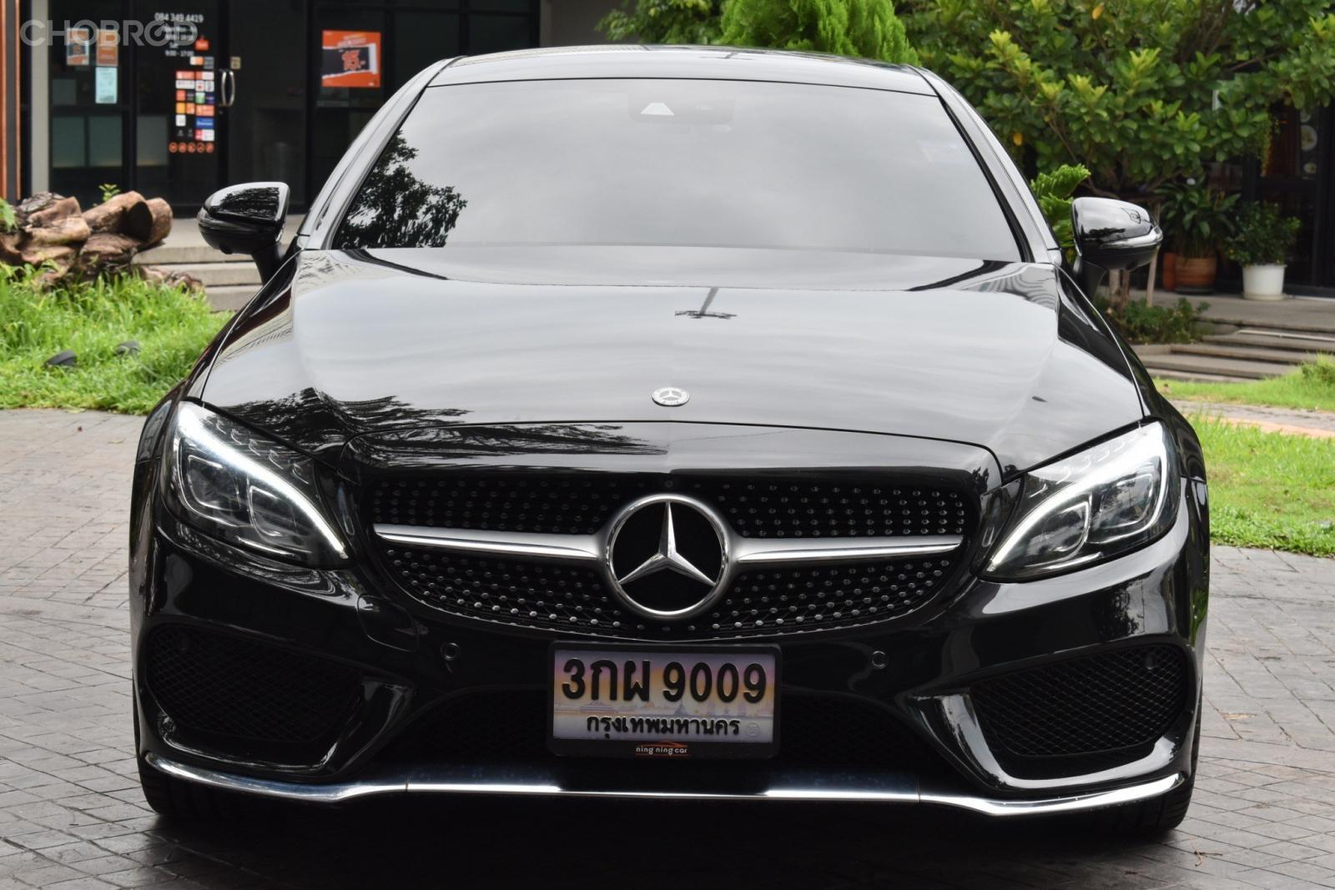license-plate: (547, 637, 781, 752)
